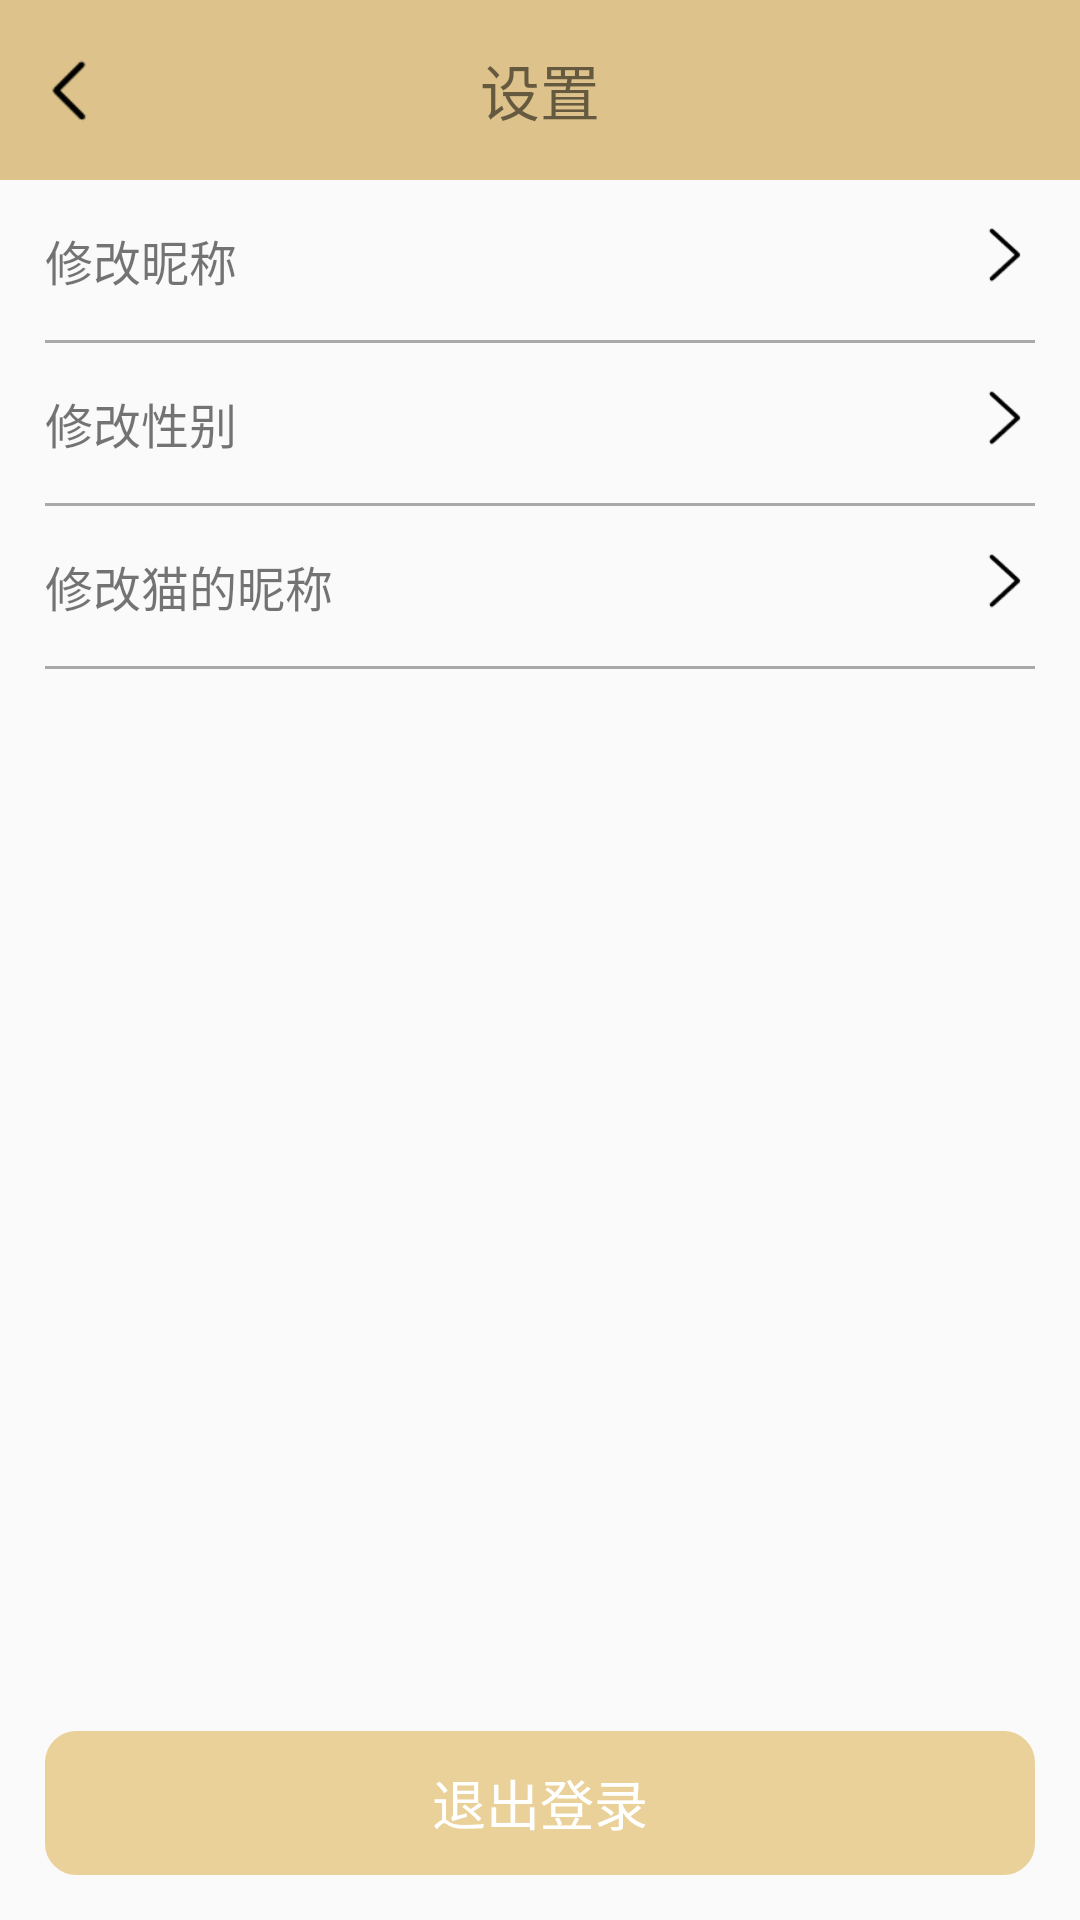

Locate icon controls on the screen. Image size 1080w x 1920h, boxes as (x1, y1, x2, y2).
return left: (52, 61, 86, 120)
